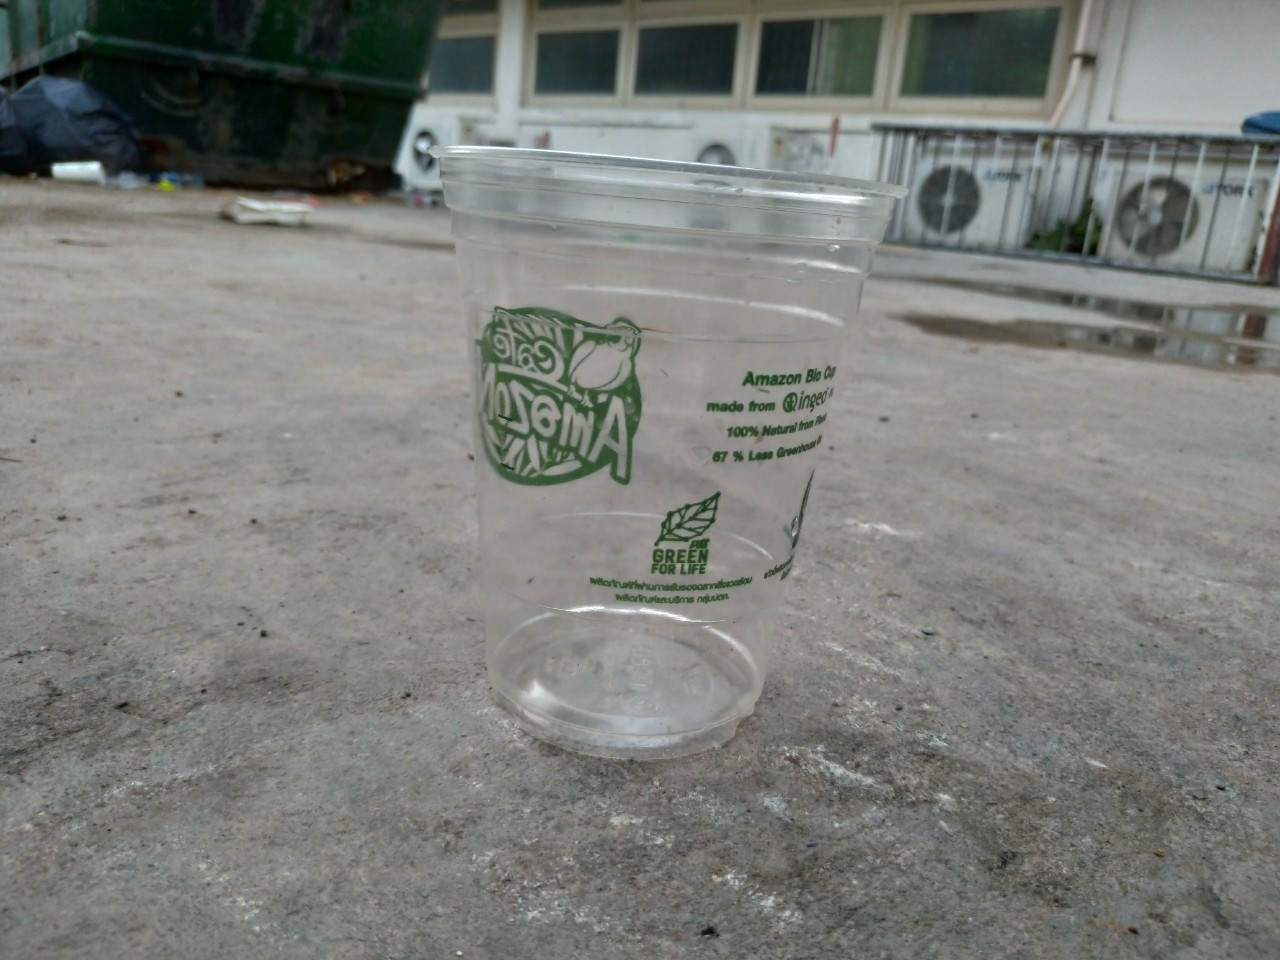PlasticCup: (430, 137, 908, 747)
